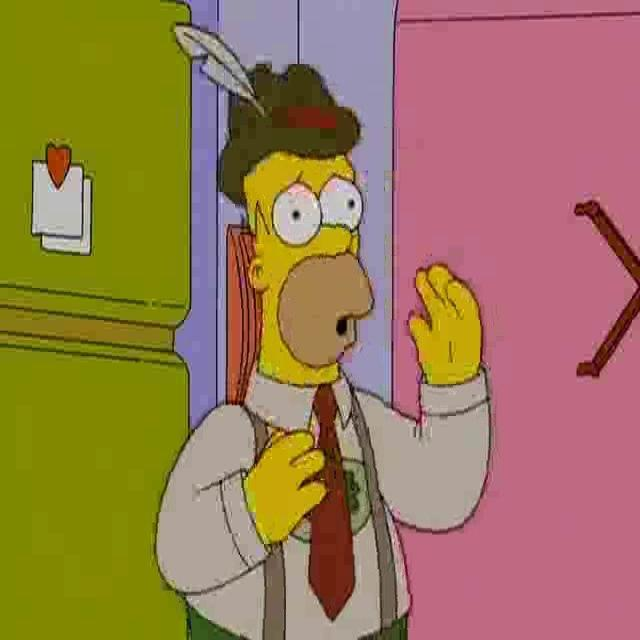Homer Simpson: (218, 65, 378, 386)
